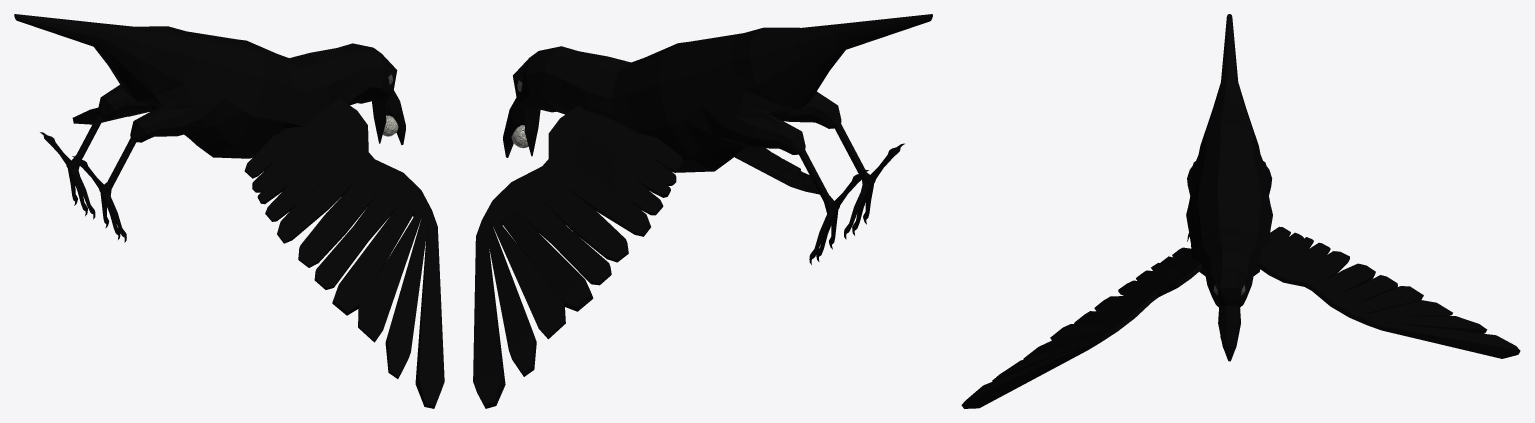
File: crow_up_stone_000008.obj
The picture shows the model from 3 angles, left to right: view 1: azimuth 30°, elevation 25°; view 2: azimuth 150°, elevation 25°; view 3: azimuth 270°, elevation 25°; orthographic projection. The views are drawn at different scales.
Parts seen in each view (by area): view 1: Cylinder; view 2: Cylinder; view 3: Cylinder.
Part boxes in pixels (box(x1,y1,x2,y2)): Cylinder: box(14, 14, 444, 408); Cylinder: box(473, 14, 932, 408); Cylinder: box(961, 14, 1520, 408).
Bounding box in the file's own units: 1.43 × 1.2 × 2.11.
